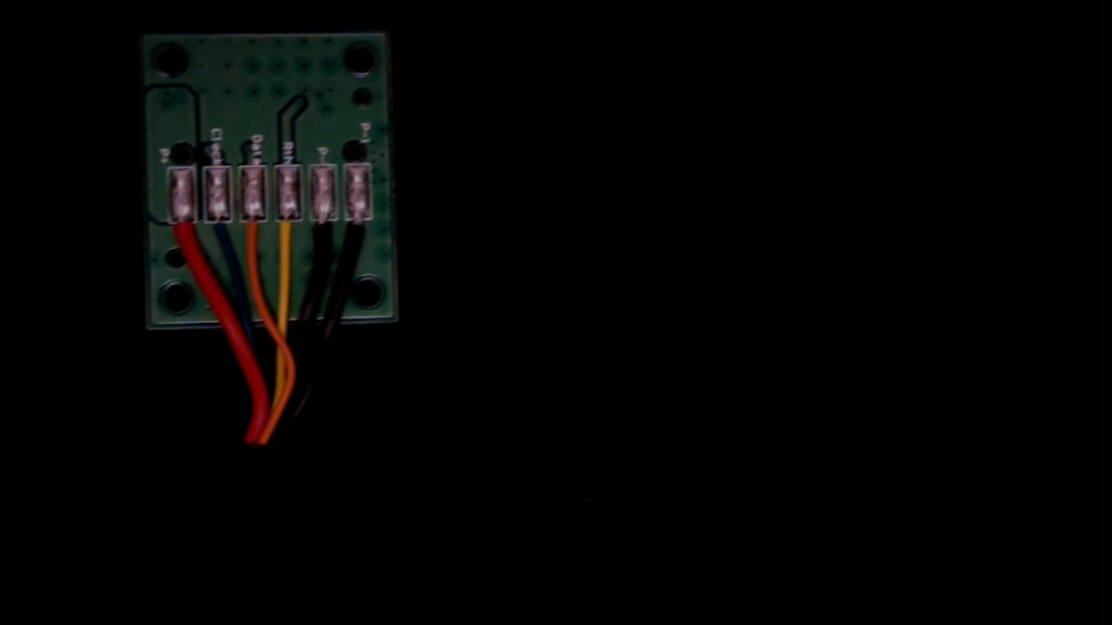Black: (309, 204, 339, 260)
Black1: (344, 204, 374, 263)
Green: (204, 205, 233, 257)
Orange: (239, 207, 269, 262)
Red: (168, 209, 199, 270)
Yellow: (273, 204, 301, 262)
